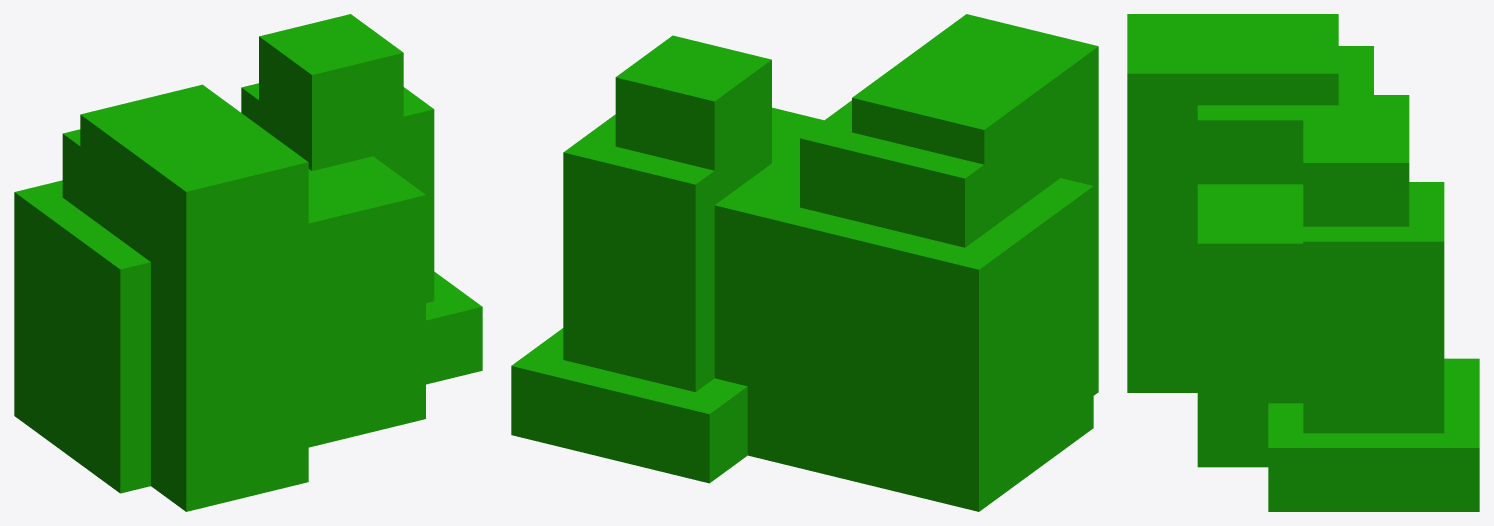
Rendered from Bush_02.obj.
3 views of the same model, side by side, from view 1: azimuth 30°, elevation 25°; view 2: azimuth 150°, elevation 25°; view 3: azimuth 270°, elevation 25° (orthographic). The views are drawn at different scales.
Bounding box in the file's own units: 1.3 × 1 × 1.
Materials: 1 (1 with a texture image).
